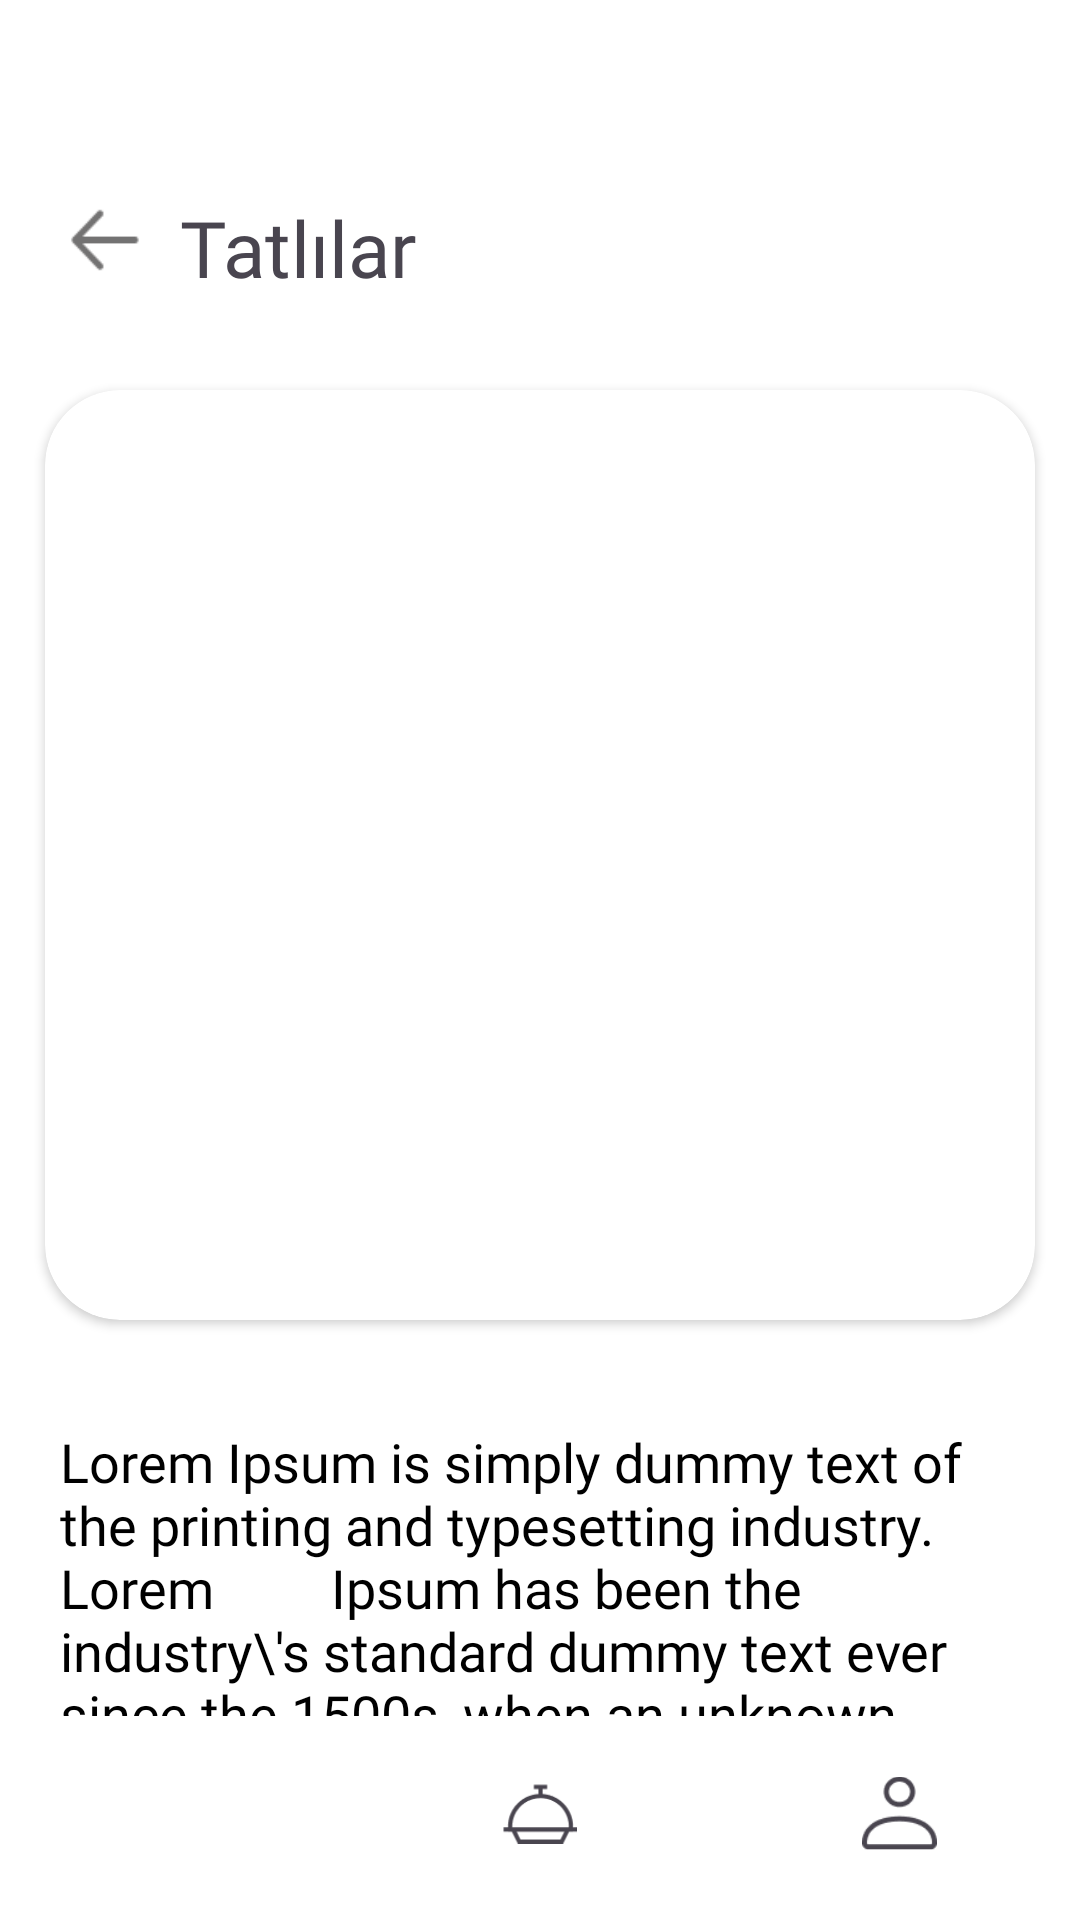

Screen size 1080 × 1920. Icon name, then its box in pixels as {"left": x1, "top": y1, "right": x2, "bottom": y2}:
arrow left: {"left": 71, "top": 210, "right": 139, "bottom": 270}
